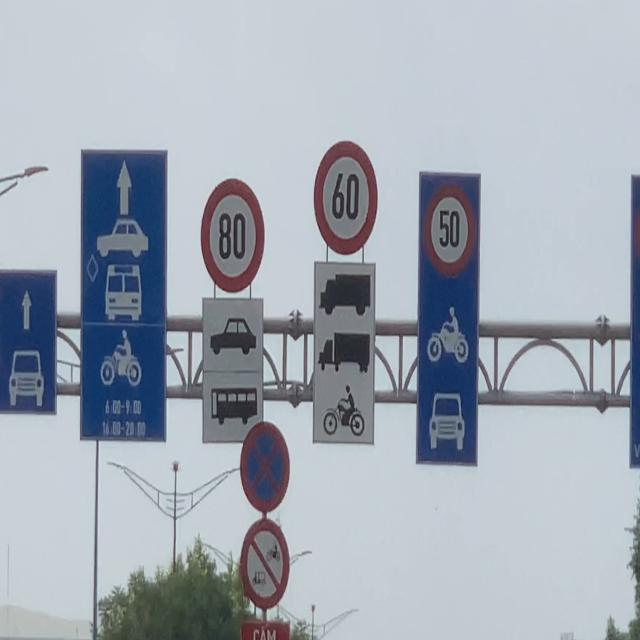Cam con lai: (239, 518, 290, 610)
Cam dung va do: (238, 420, 292, 516)
Toc do toi da: (314, 127, 378, 261), (198, 170, 266, 294), (427, 173, 473, 279)
